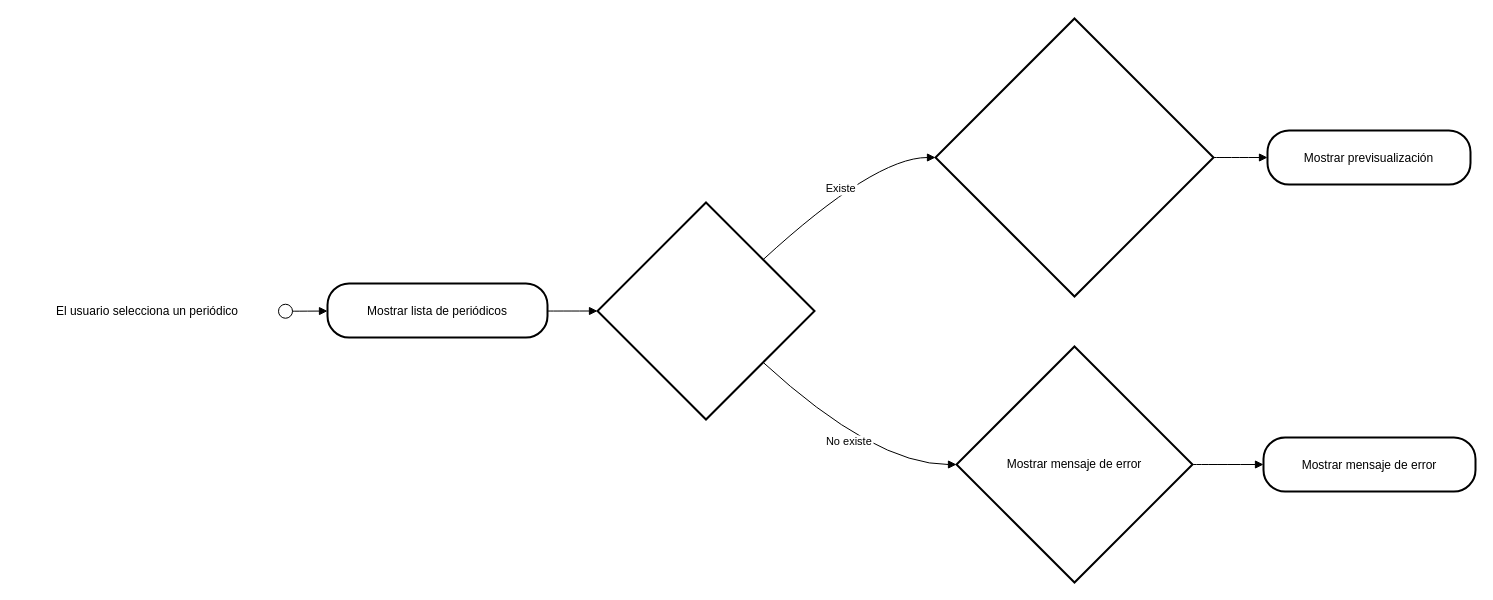
The diagram is 1493 pixels wide and 600 high, and some of its shapes have lost their labels. The shapes that lost their labels are listed below. From the top down, each one's centre as x and y in pixels, then its label:
At (1074,157): "Usuario visualiza previsualización".
At (705,310): "Periódico seleccionado".
